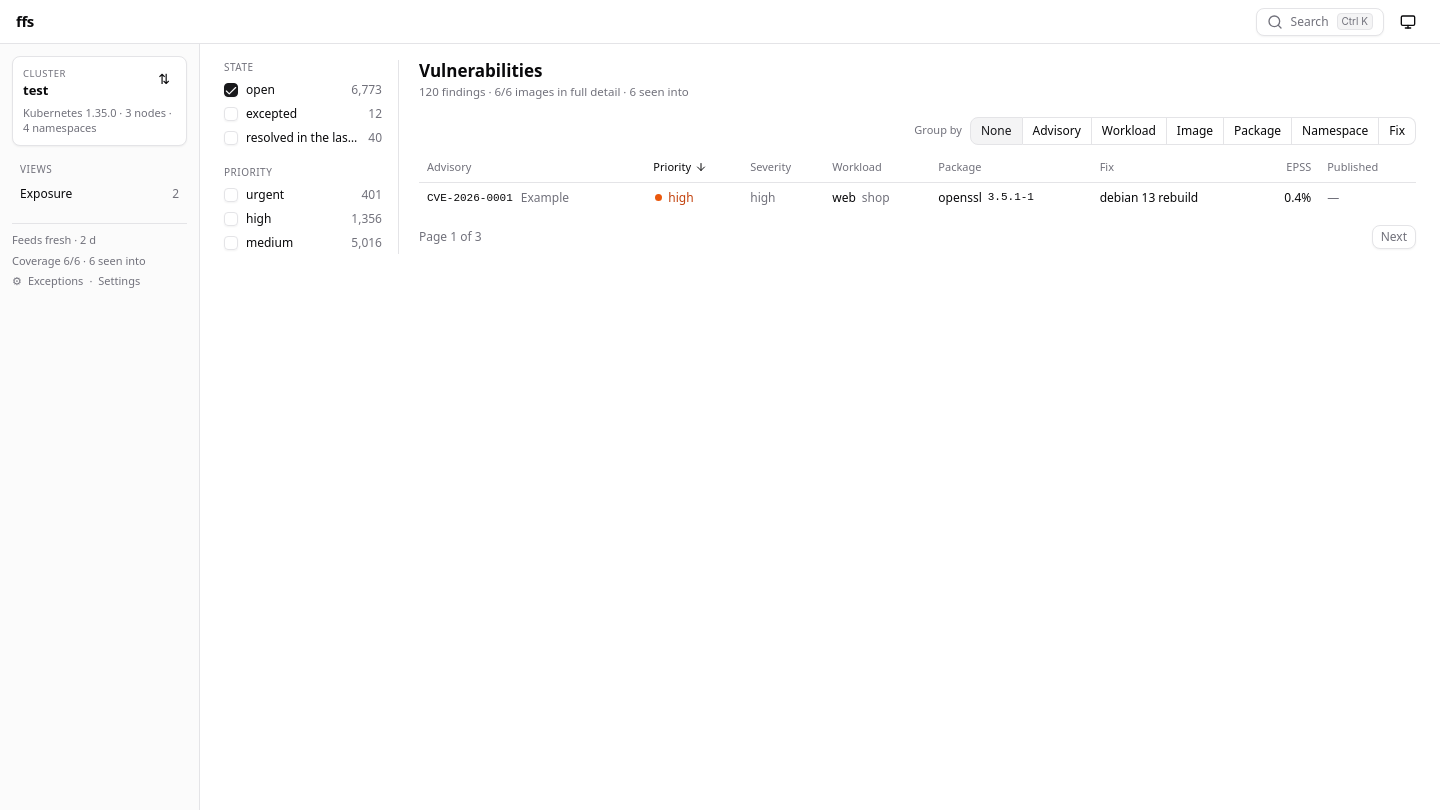
the pager walks forward with next and back through the cursor stack
The image size is (1440, 810).
Check: the text "Page 1 of 3" is shown, box top-left (419, 228), bottom-right (482, 246)
Click the button "Next" at point(1394, 236), box top-left (1372, 224), bottom-right (1416, 248)
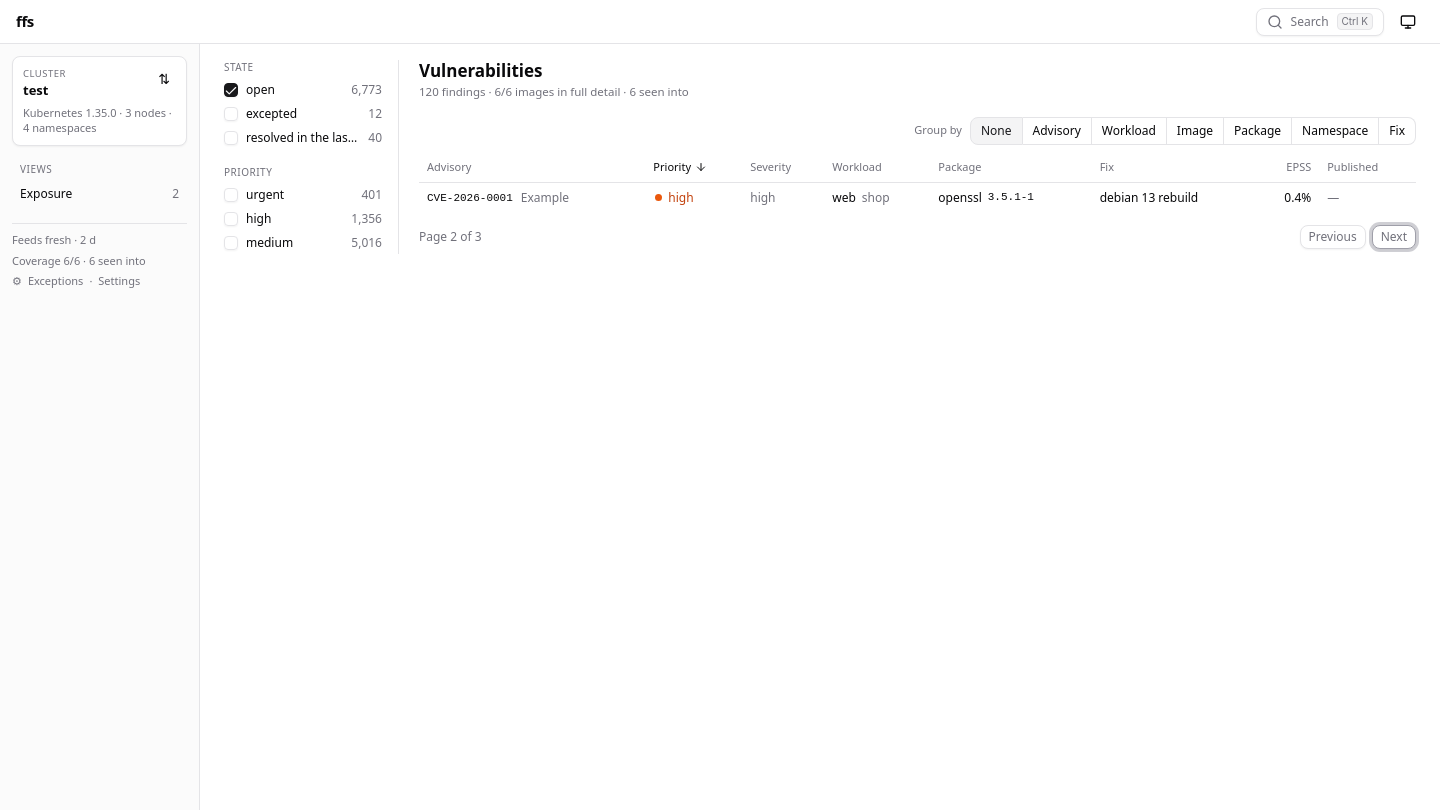
Check: the text "Page 2 of 3" is shown, box top-left (419, 228), bottom-right (482, 246)
Click the button "Previous" at point(1333, 236), box top-left (1300, 224), bottom-right (1366, 248)
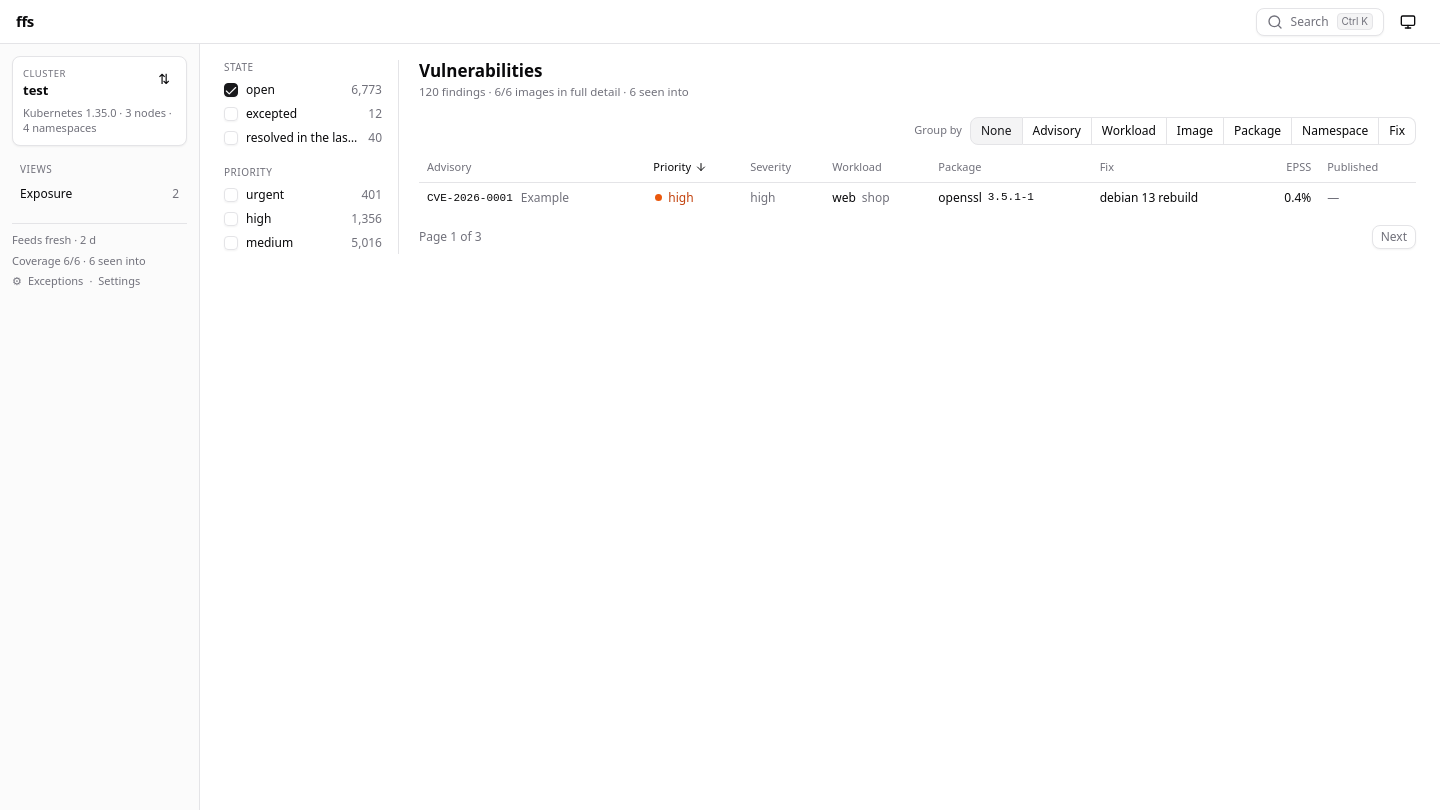
Check: the text "Page 1 of 3" is shown, box top-left (419, 228), bottom-right (482, 246)
